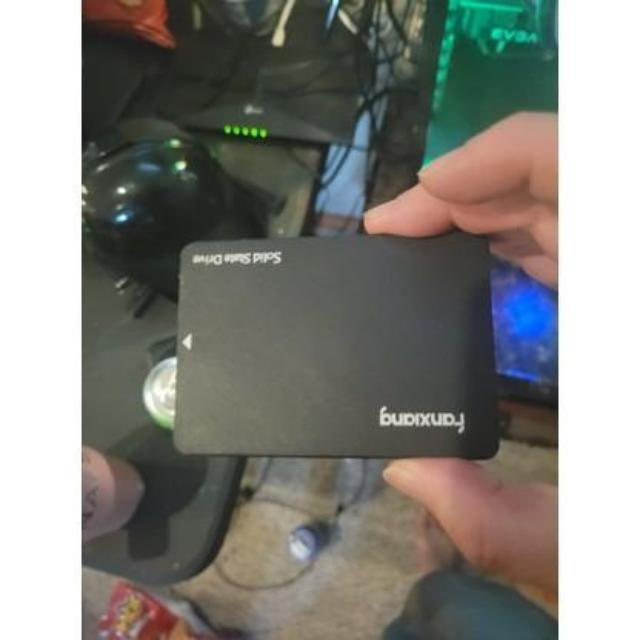DISK: (170, 233, 502, 464)
